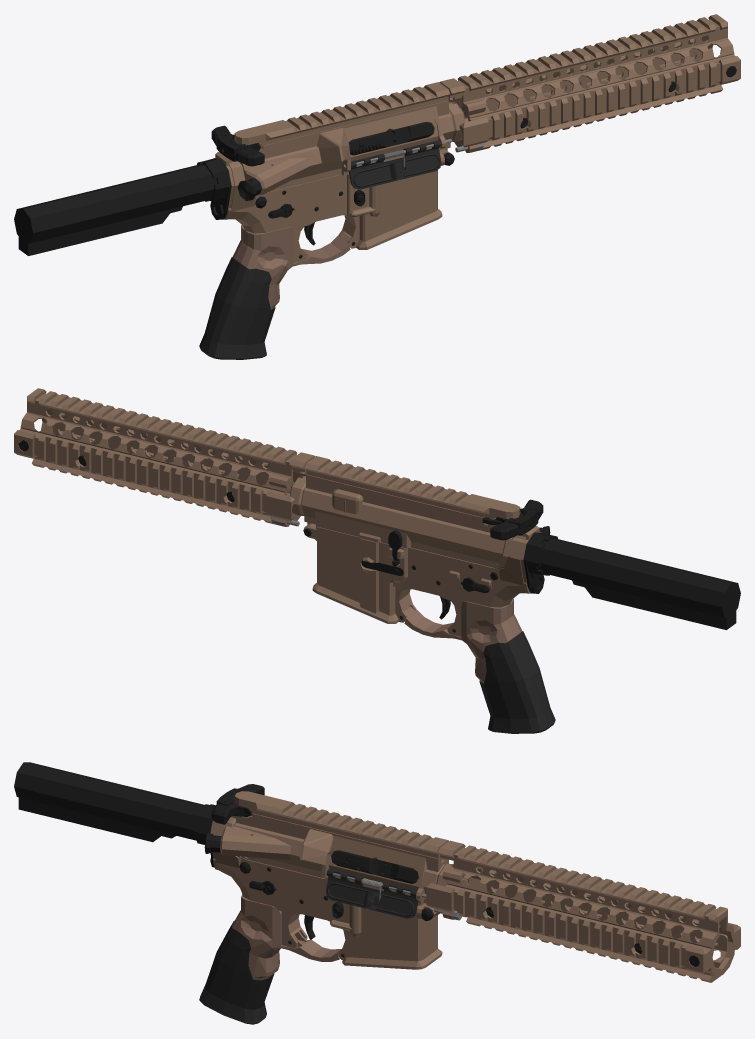
The picture shows the model from 3 angles, top to bottom: view 1: azimuth 30°, elevation 25°; view 2: azimuth 150°, elevation 25°; view 3: azimuth 330°, elevation 25°; orthographic projection.
Parts seen in each view (by area): view 1: ddmk18 handguard_15, ddmk18 lower_3 (×2), ddmk18 upper_0, ddmk18 grip_16 (×2), ddmk18 dust cover_4, ddmk18 bolt_6, ddmk18 charging handle_11; view 2: ddmk18 lower_3 (×2), ddmk18 handguard_15, ddmk18 upper_0, ddmk18 grip_16 (×2), ddmk18 charging handle_11; view 3: ddmk18 handguard_15, ddmk18 lower_3 (×2), ddmk18 upper_0, ddmk18 grip_16 (×2), ddmk18 dust cover_4, ddmk18 bolt_6, ddmk18 charging handle_11.
Boxes of the visible parts, x1,y1,x2,y2 form: ddmk18 handguard_15: (439, 14, 740, 152); ddmk18 lower_3 (×2): (14, 149, 454, 262); ddmk18 upper_0: (234, 82, 464, 195); ddmk18 grip_16 (×2): (199, 224, 350, 359); ddmk18 dust cover_4: (349, 140, 441, 189); ddmk18 bolt_6: (348, 122, 433, 155); ddmk18 charging handle_11: (211, 125, 264, 166); ddmk18 lower_3 (×2): (303, 523, 740, 636); ddmk18 handguard_15: (14, 388, 315, 526); ddmk18 upper_0: (290, 456, 520, 567); ddmk18 grip_16 (×2): (404, 598, 555, 733); ddmk18 charging handle_11: (482, 499, 543, 540); ddmk18 handguard_15: (426, 840, 740, 982); ddmk18 lower_3 (×2): (14, 762, 442, 969); ddmk18 upper_0: (220, 791, 453, 915); ddmk18 grip_16 (×2): (199, 894, 341, 1024); ddmk18 dust cover_4: (326, 869, 418, 918); ddmk18 bolt_6: (331, 850, 418, 883); ddmk18 charging handle_11: (211, 784, 264, 824).
Size of the model in its own units: 6.15 by 1.87 by 0.6806.
